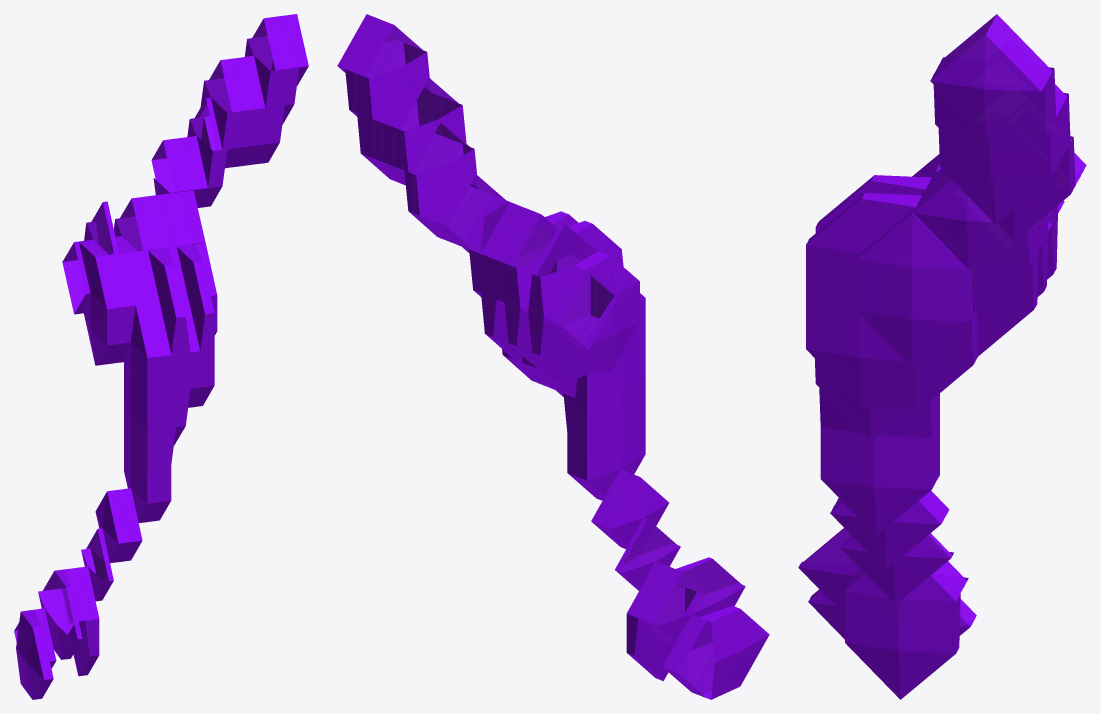
The model's file is SVV_Fragment13.gltf.
3 views of the same model, side by side, from view 1: azimuth 30°, elevation 25°; view 2: azimuth 150°, elevation 25°; view 3: azimuth 270°, elevation 25° (orthographic). The views are drawn at different scales.
Visible parts, largest first — view 1: Fragment13; view 2: Fragment13; view 3: Fragment13.
Boxes of the visible parts, x1,y1,x2,y2 form: Fragment13: (14, 14, 308, 699); Fragment13: (337, 14, 769, 699); Fragment13: (798, 14, 1086, 699).
Bounding box in the file's own units: 6110 × 10546 × 3313.
